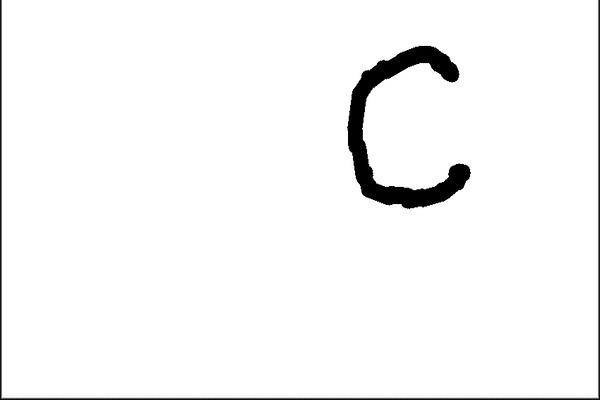C: (340, 40, 475, 210)
